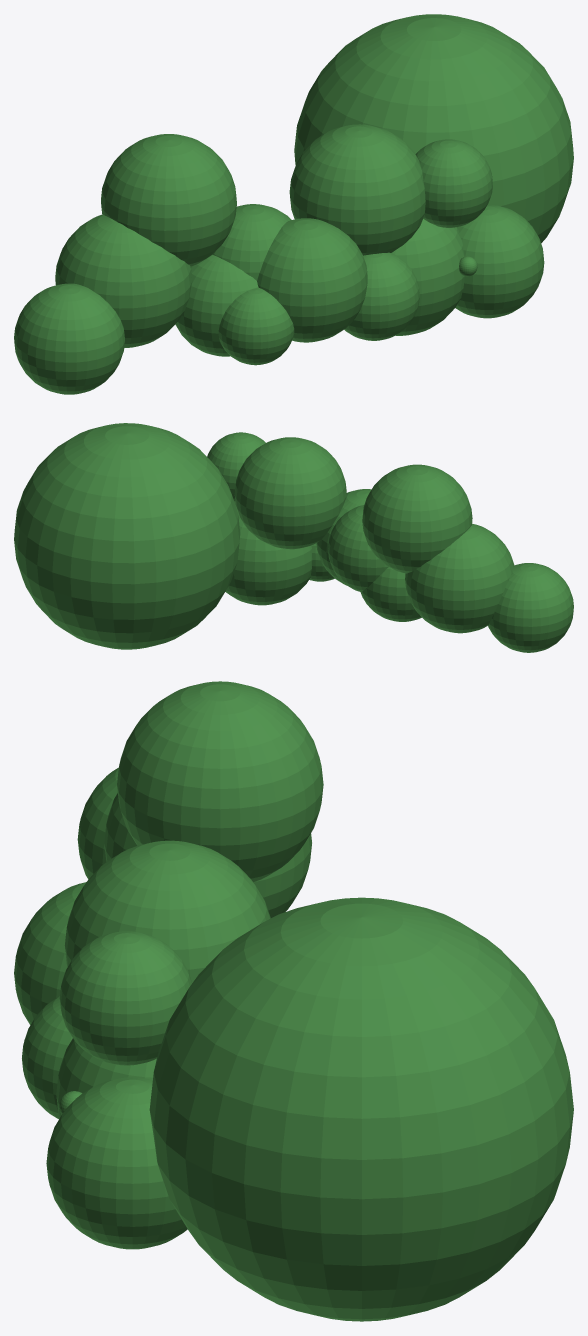
The picture shows the model from 3 angles, top to bottom: view 1: azimuth 30°, elevation 25°; view 2: azimuth 150°, elevation 25°; view 3: azimuth 270°, elevation 25°; orthographic projection. The views are drawn at different scales.
Visible parts, largest first — view 1: Forest; view 2: Forest; view 3: Forest.
Boxes of the visible parts, bbox=[...] form: Forest: bbox=[14, 14, 573, 394]; Forest: bbox=[14, 423, 573, 652]; Forest: bbox=[14, 681, 573, 1321].
Bounding box in the file's own units: 10434 × 5570 × 4220.
